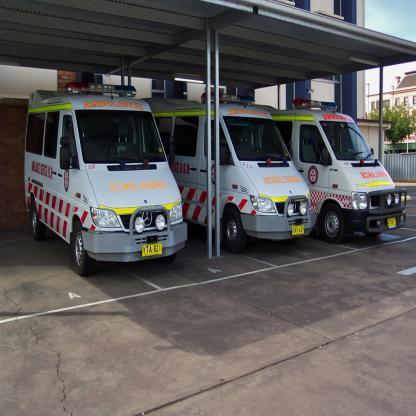Ambulance - v1 Ambulance last generate: (24, 66, 187, 276), (144, 92, 317, 256), (254, 86, 408, 244)
